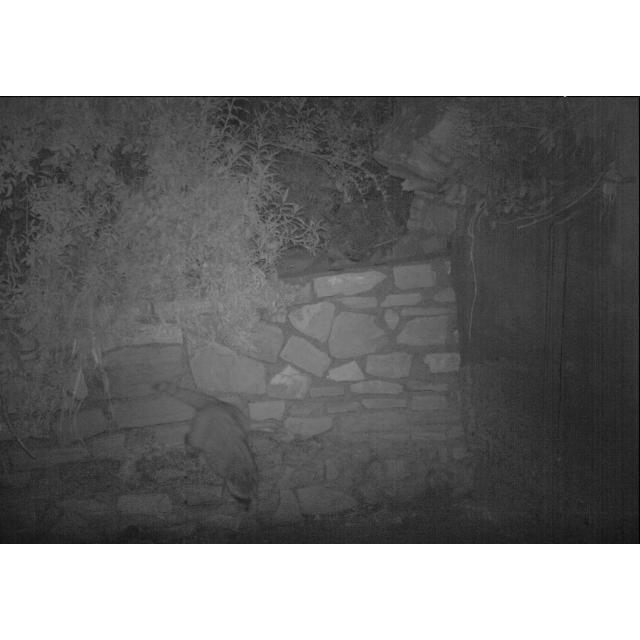animals: (150, 380, 260, 514)
